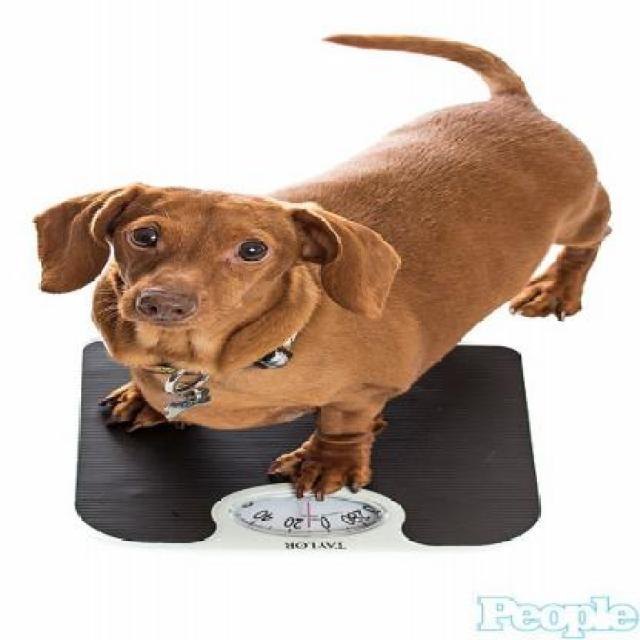Dog: (31, 29, 618, 505)
